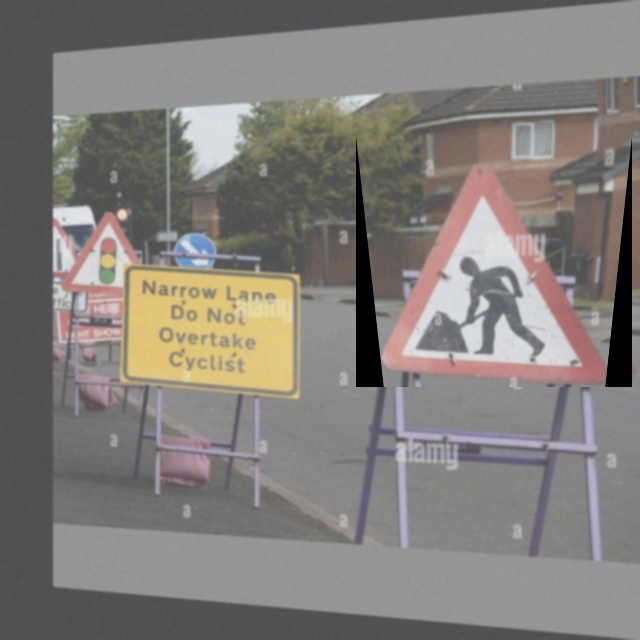Men_at_Work: (356, 136, 632, 387)
